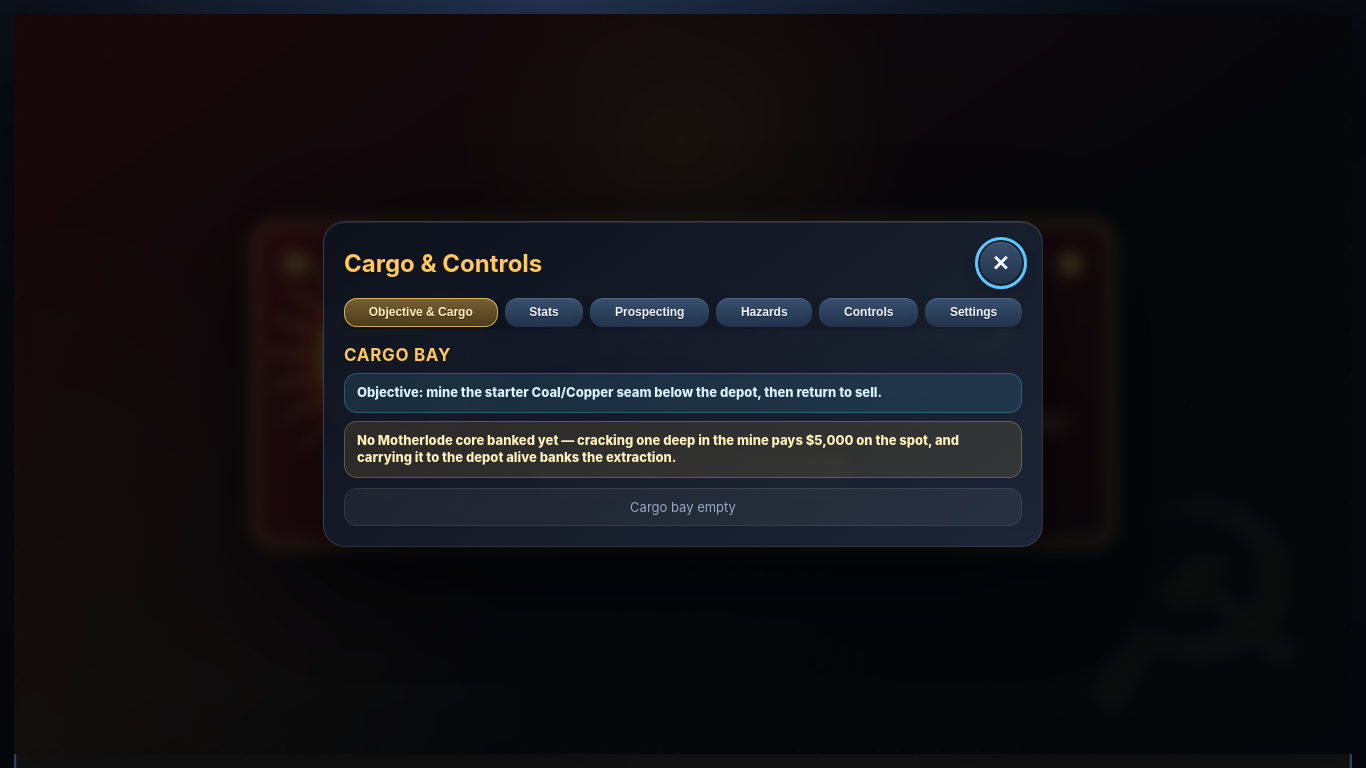
Test: settings tab › cancels the pending confirm from the Cancel button and by leaving the tab
Click the tab with id "info-tab-settings" at [974, 313], box top-left (925, 298), bottom-right (1022, 327)
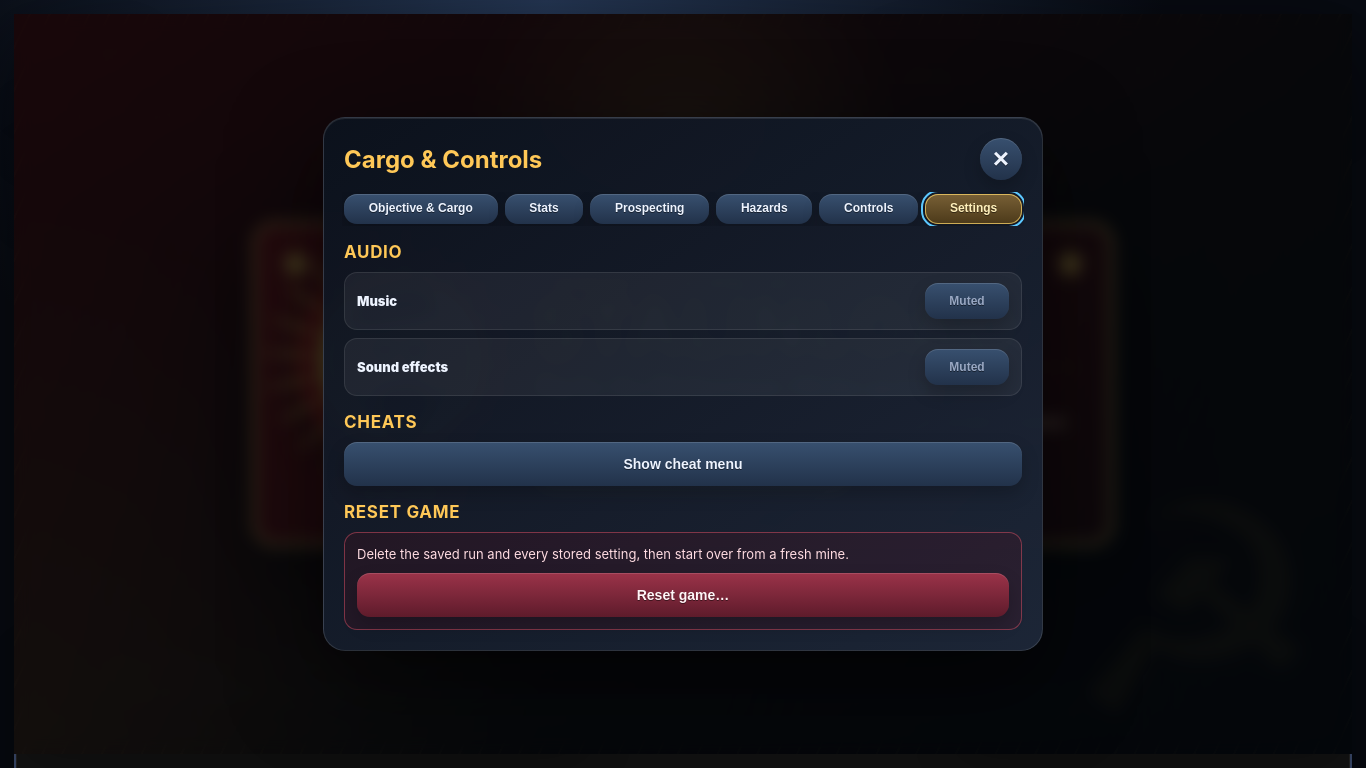
Click the button with id "resetGameBtn" at [683, 595], box top-left (357, 573), bottom-right (1009, 617)
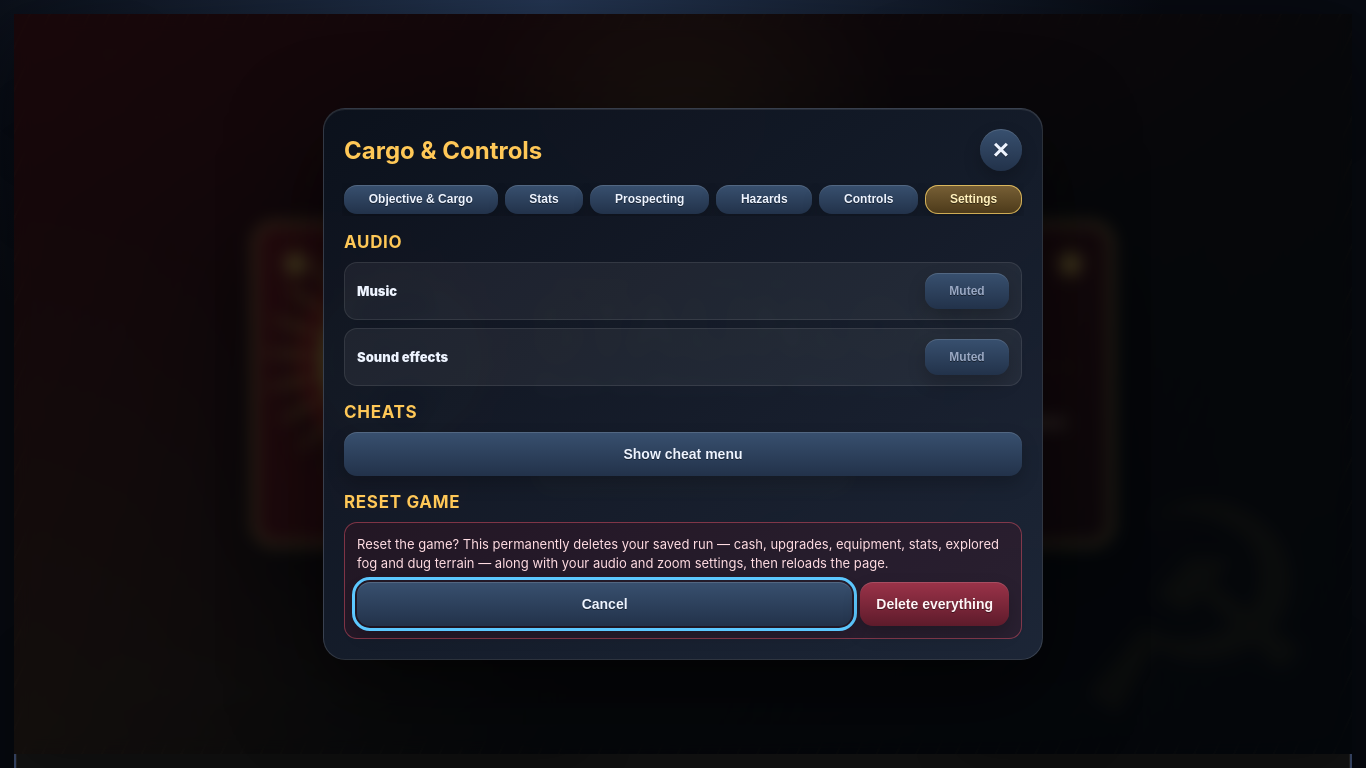
Click the button with id "resetGameCancelBtn" at [605, 604], box top-left (357, 582), bottom-right (852, 626)
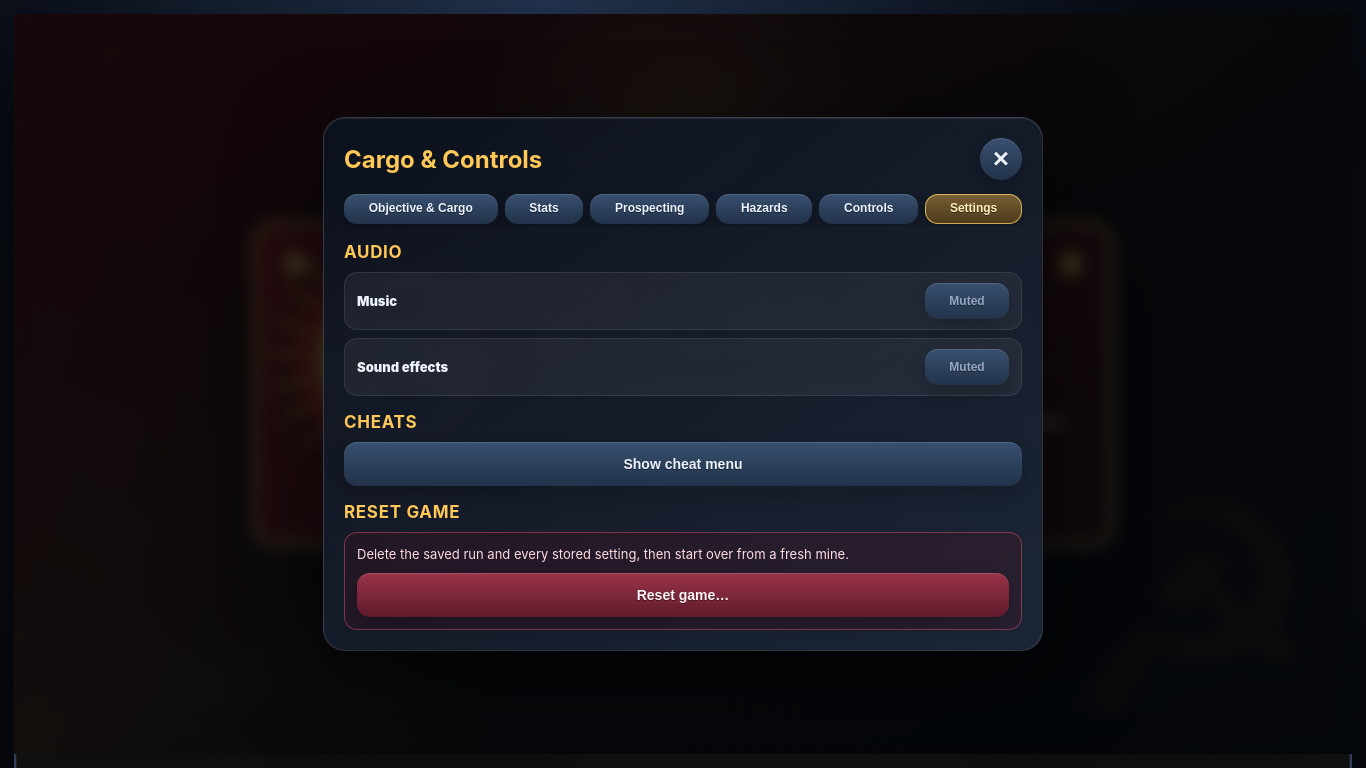
Expected: the button with id "resetGameConfirmBtn" is gone
Expected: the button with id "resetGameBtn" is shown
Click the button with id "resetGameBtn" at [683, 595], box top-left (357, 573), bottom-right (1009, 617)
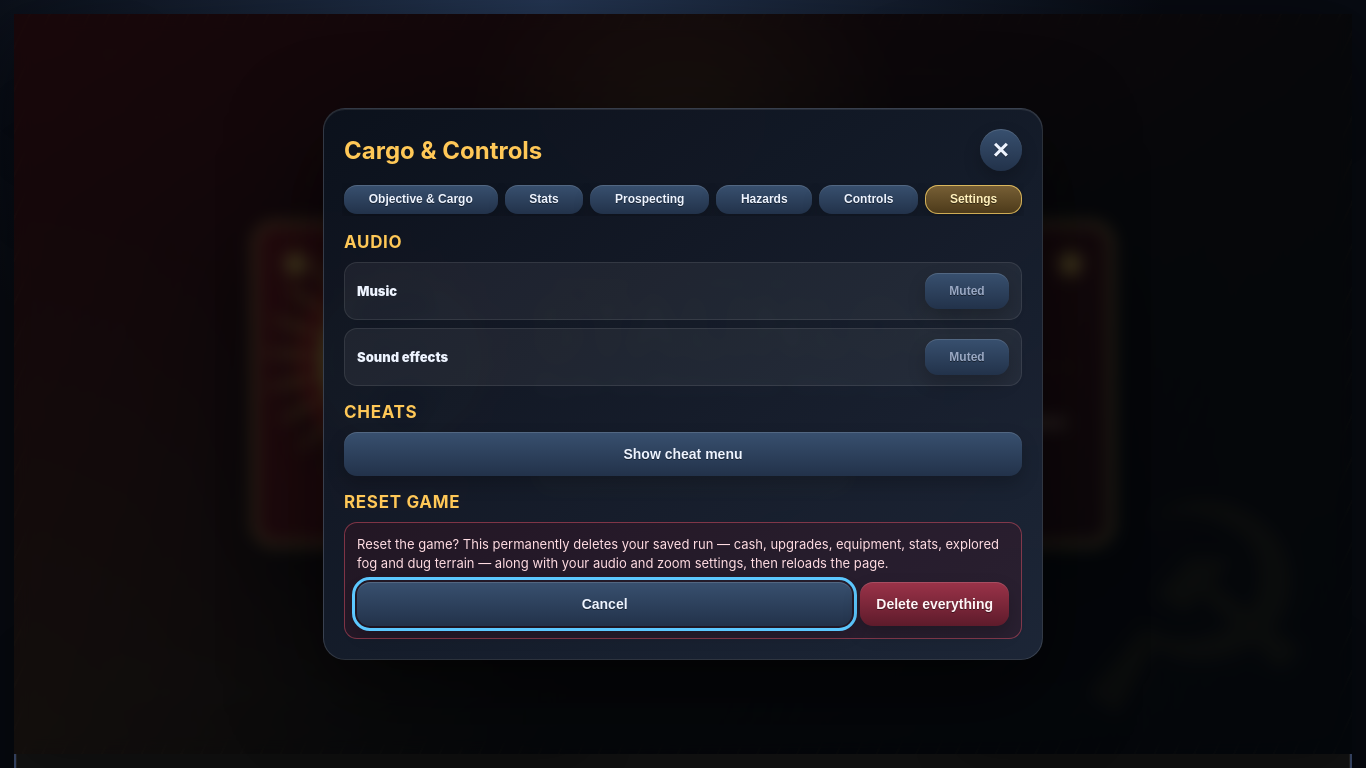
Click the tab with id "info-tab-controls" at [869, 200], box top-left (819, 185), bottom-right (918, 214)
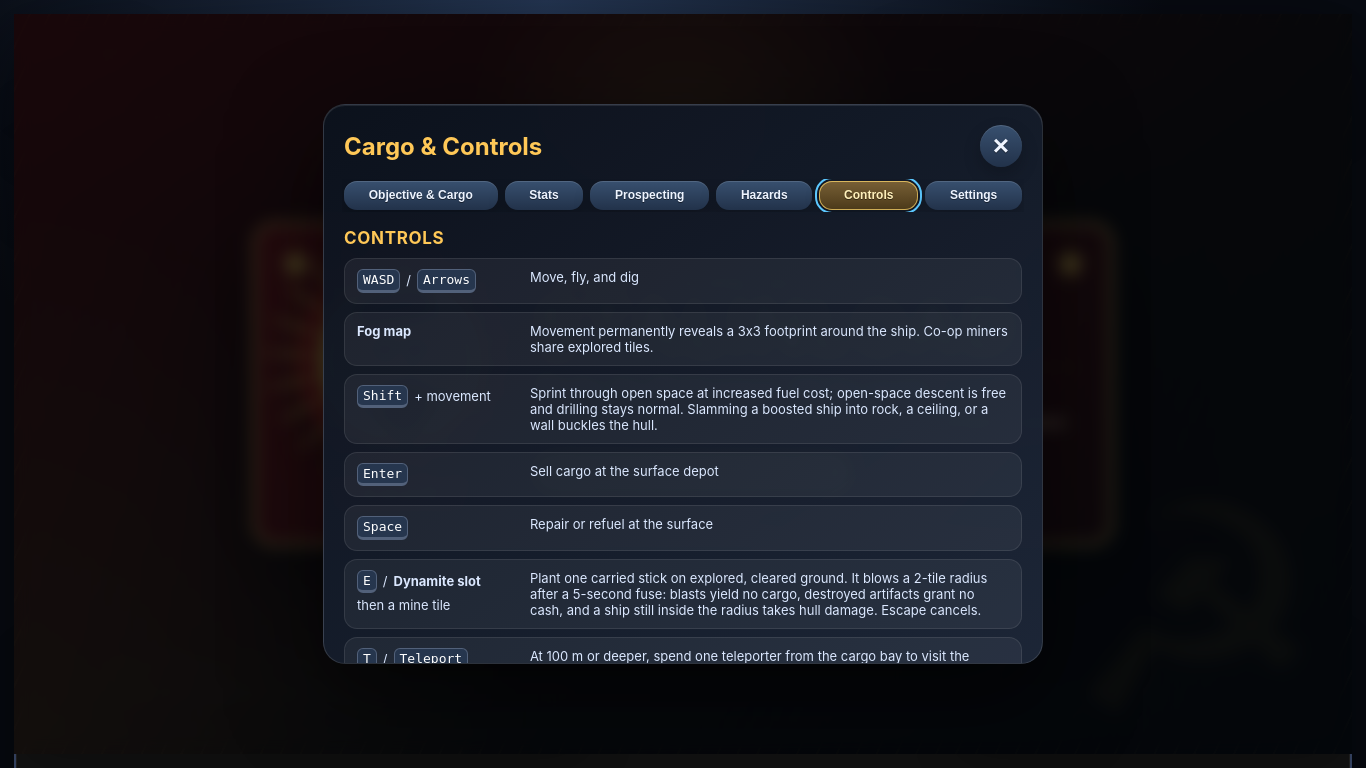
Click the tab with id "info-tab-settings" at [974, 196], box top-left (925, 181), bottom-right (1022, 210)
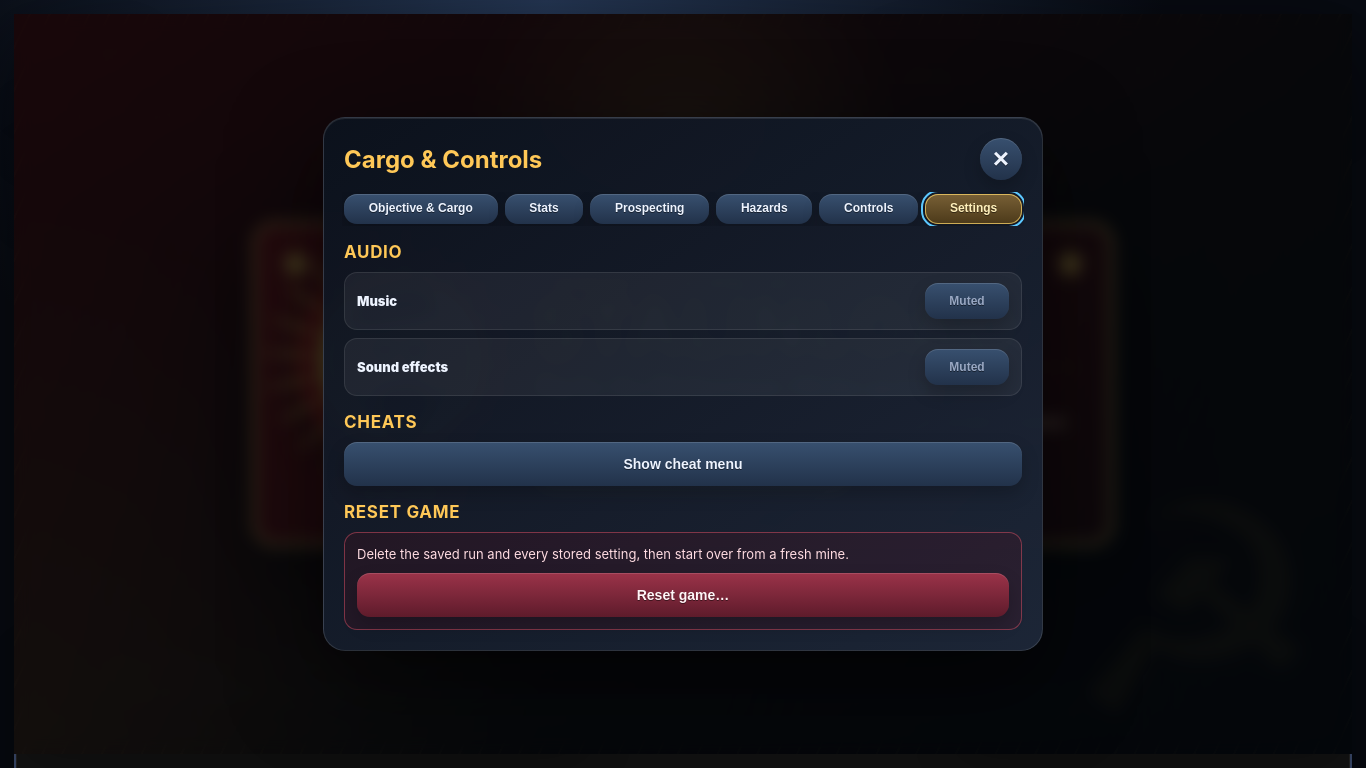
Expected: the button with id "resetGameBtn" is shown, top-left (357, 573), bottom-right (1009, 617)
